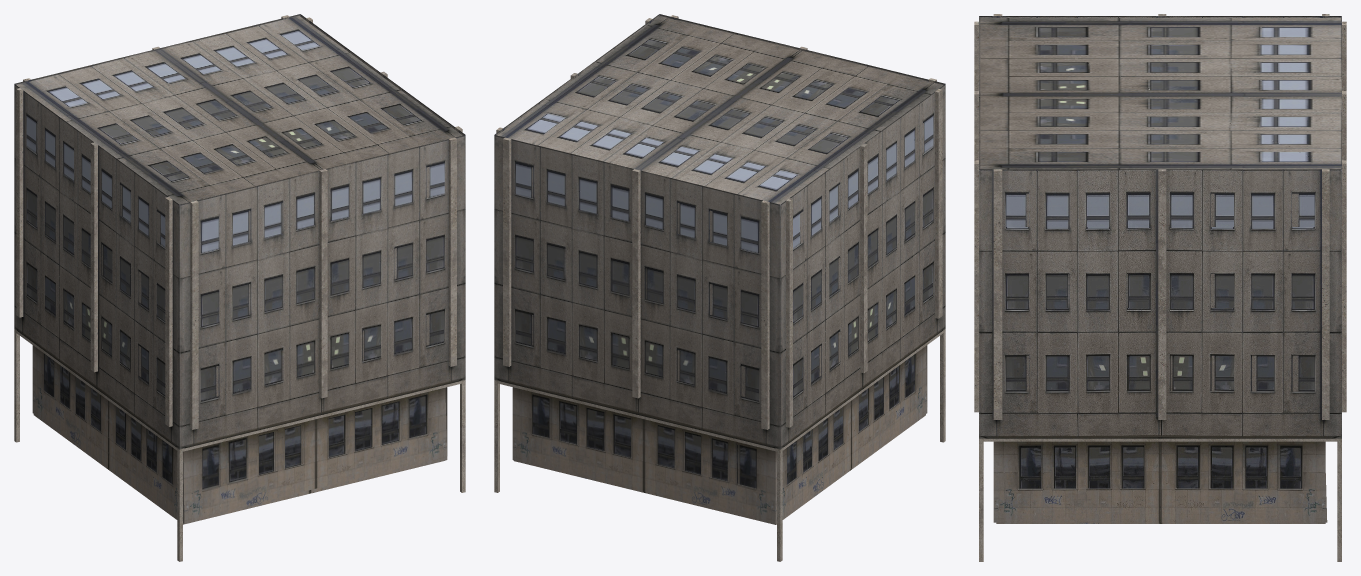
The model's file is BagSS01base_100.fbx.
The picture shows the model from 3 angles, left to right: view 1: azimuth 30°, elevation 25°; view 2: azimuth 150°, elevation 25°; view 3: azimuth 270°, elevation 25°; orthographic projection. The views are drawn at different scales.
Visible parts, largest first — view 1: b_B100, boxA100, trim100, boxB100; view 2: b_B100, boxA100, trim100, boxB100; view 3: b_B100, boxA100, trim100, boxB100.
Part boxes in pixels (box(x1,y1,x2,y2)): b_B100: box(14, 14, 465, 523); boxA100: box(16, 16, 462, 400); trim100: box(14, 15, 465, 561); boxB100: box(33, 348, 445, 524); b_B100: box(494, 14, 945, 523); boxA100: box(497, 16, 942, 400); trim100: box(494, 15, 945, 561); boxB100: box(513, 353, 925, 524); b_B100: box(979, 16, 1341, 523); boxA100: box(980, 18, 1341, 391); trim100: box(974, 14, 1346, 561); boxB100: box(996, 441, 1325, 523).
Size of the model in its own units: 17.99 by 20.93 by 17.98.
